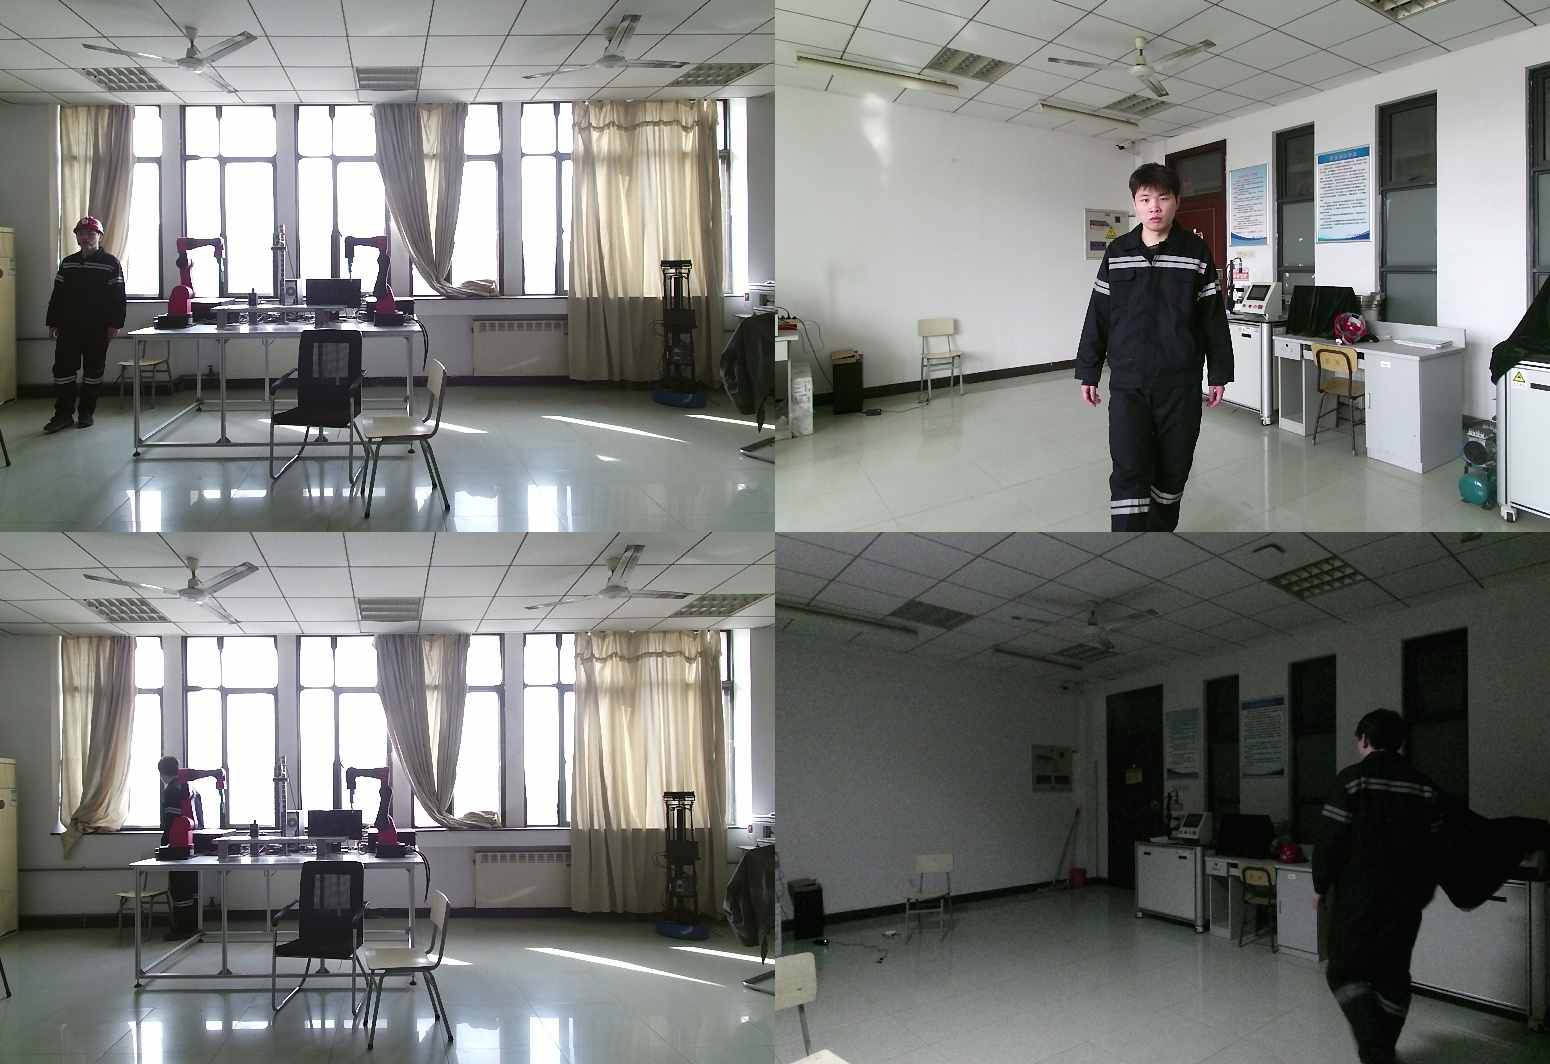person: (1076, 165, 1245, 532), (1290, 720, 1441, 1064), (40, 215, 127, 433), (155, 754, 208, 946)
